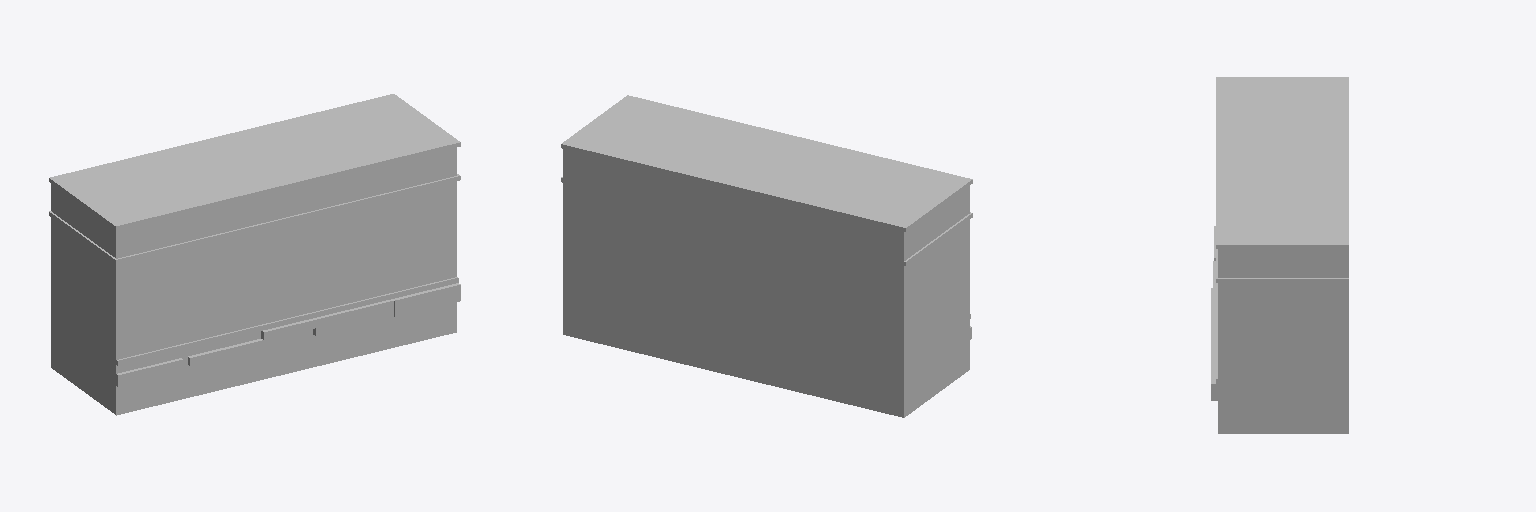
The model's file is Building02.obj.
3 renders of one model, left to right at view 1: azimuth 30°, elevation 25°; view 2: azimuth 150°, elevation 25°; view 3: azimuth 270°, elevation 25°, orthographic.
Parts seen in each view (by area): view 1: pCube1; view 2: pCube1; view 3: pCube1.
Boxes of the visible parts, x1,y1,x2,y2 form: pCube1: [49, 94, 460, 415]; pCube1: [561, 95, 972, 417]; pCube1: [1211, 77, 1348, 433].
Size of the model in its own units: 208 by 110 by 72.04.